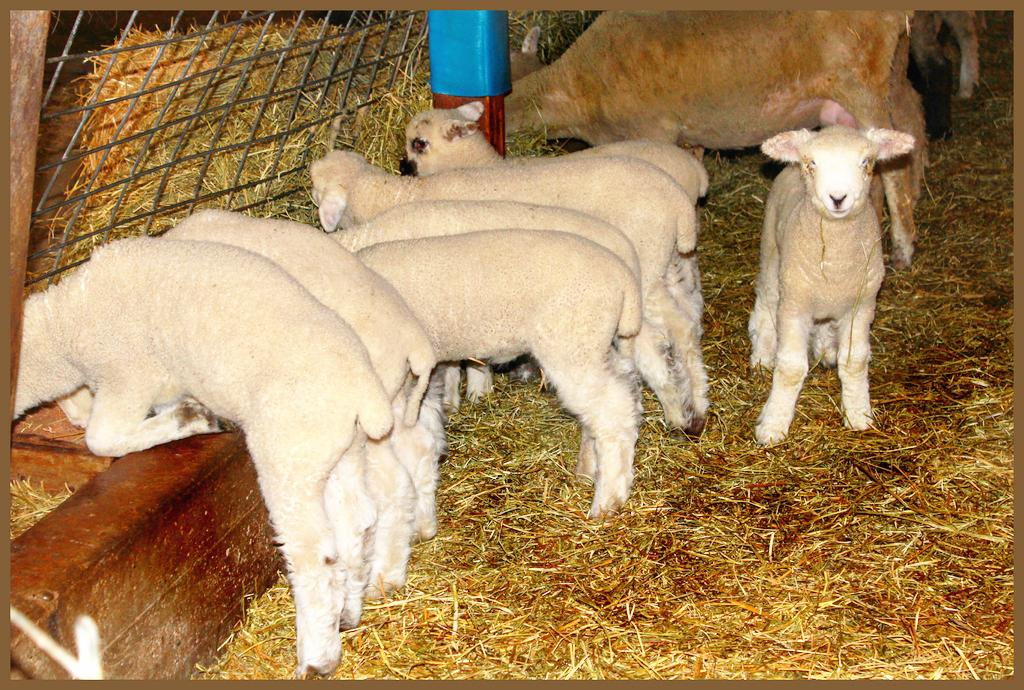Sheep: (0, 237, 395, 679), (300, 156, 725, 435), (142, 209, 441, 585), (506, 6, 918, 267), (303, 200, 669, 451), (343, 233, 653, 505), (387, 109, 729, 335), (737, 115, 914, 455)
